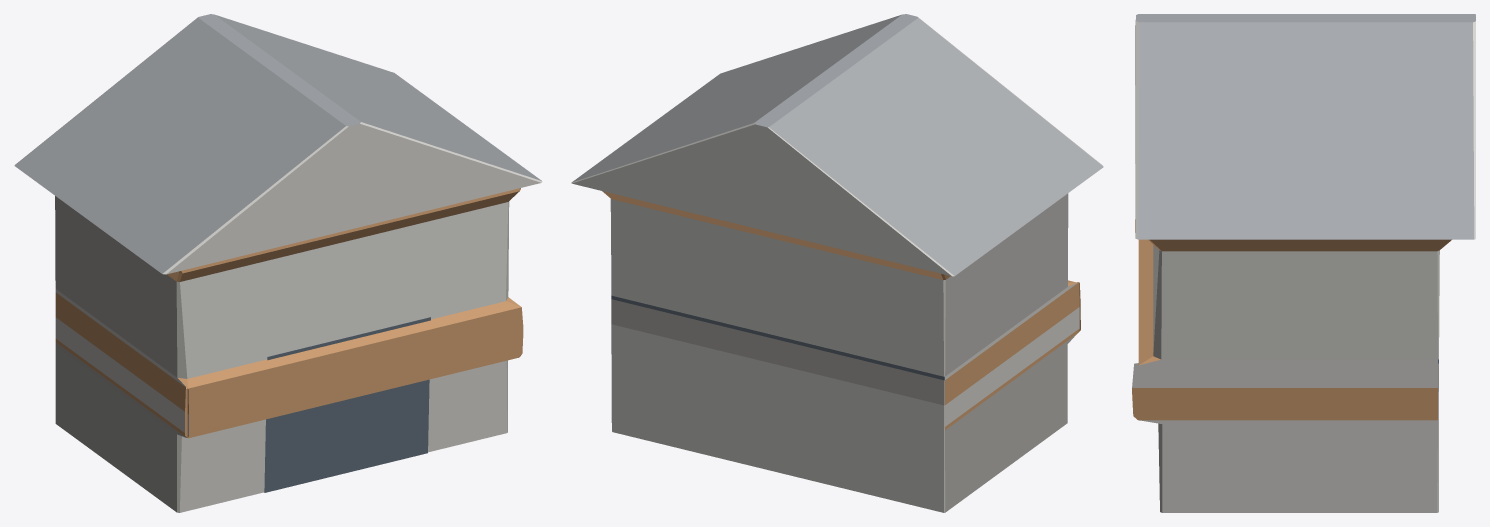
File: loin.glb
3 renders of one model, left to right at view 1: azimuth 30°, elevation 25°; view 2: azimuth 150°, elevation 25°; view 3: azimuth 270°, elevation 25°, orthographic. The views are drawn at different scales.
Visible parts, largest first — view 1: loin; view 2: loin; view 3: loin.
Part boxes in pixels (box(x1,y1,x2,y2)): loin: box(14, 14, 542, 512); loin: box(571, 14, 1103, 512); loin: box(1132, 14, 1475, 512).
Size of the model in its own units: 0.9996 by 0.8931 by 0.6899.
